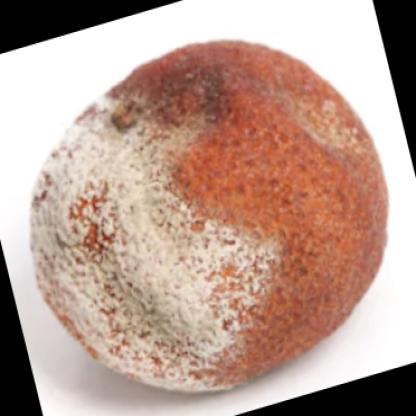rotten: (35, 43, 389, 391)
